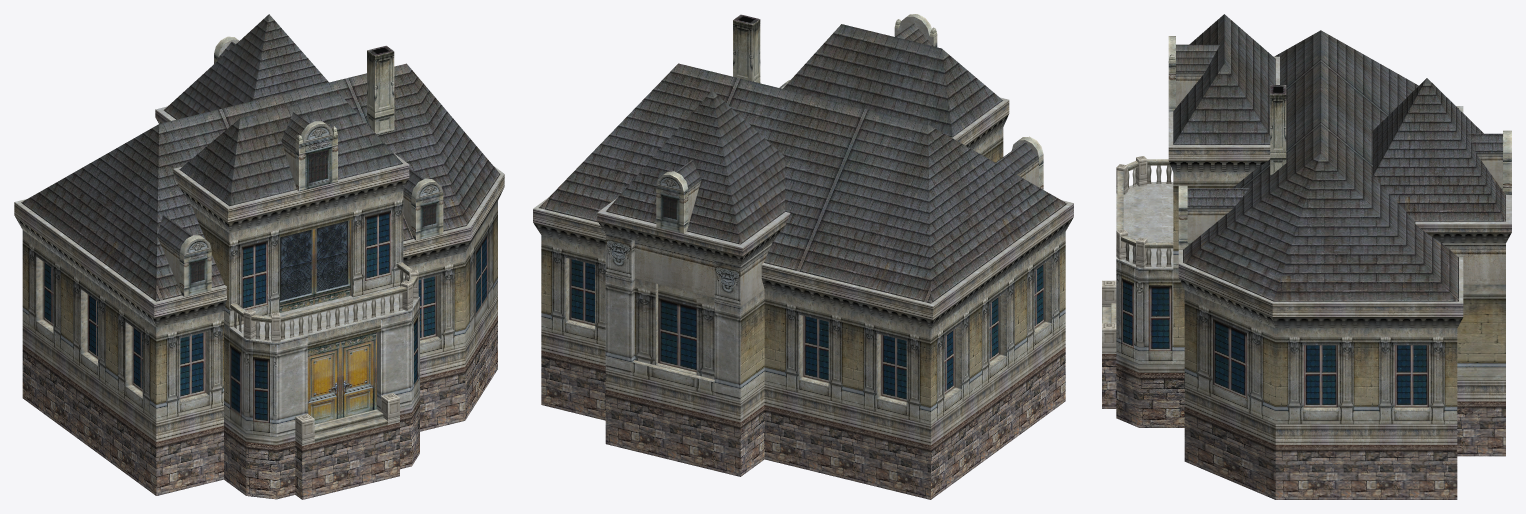
The model's file is rd_vil3.glb.
The picture shows the model from 3 angles, left to right: view 1: azimuth 30°, elevation 25°; view 2: azimuth 150°, elevation 25°; view 3: azimuth 270°, elevation 25°; orthographic projection.
Visible parts, largest first — view 1: rd_vil3-col; view 2: rd_vil3-col; view 3: rd_vil3-col.
Boxes of the visible parts, box(x1,y1,x2,y2) form: rd_vil3-col: box(14, 14, 504, 499); rd_vil3-col: box(533, 14, 1073, 499); rd_vil3-col: box(1102, 14, 1511, 499).
Size of the model in its own units: 20.53 by 17.11 by 18.03.
Materials: 11 (11 with a texture image).
